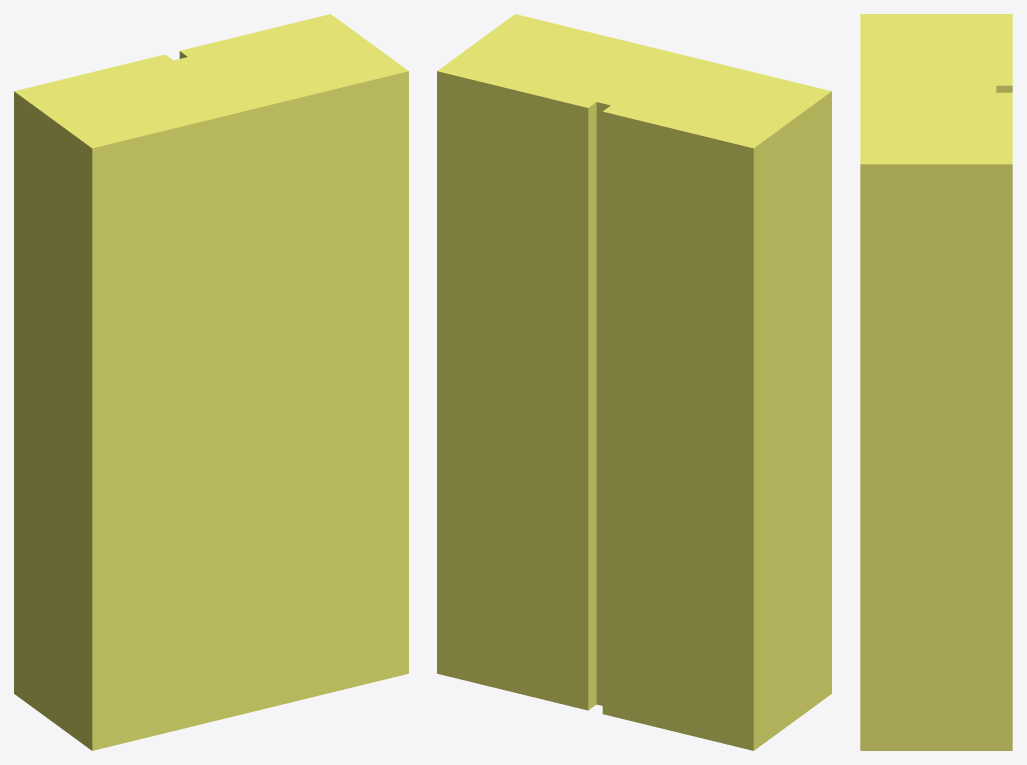
File: elec.armoire.1'.glb
3 renders of one model, left to right at view 1: azimuth 30°, elevation 25°; view 2: azimuth 150°, elevation 25°; view 3: azimuth 270°, elevation 25°, orthographic. The views are drawn at different scales.
Visible parts, largest first — view 1: imagetostl_mesh2, imagetostl_mesh4, imagetostl_mesh0; view 2: imagetostl_mesh6, imagetostl_mesh1, imagetostl_mesh4, imagetostl_mesh0, imagetostl_mesh8, imagetostl_mesh7; view 3: imagetostl_mesh3, imagetostl_mesh0.
Boxes of the visible parts, <box> form: imagetostl_mesh2: <box>92,71,408,750</box>; imagetostl_mesh4: <box>14,91,92,750</box>; imagetostl_mesh0: <box>14,14,408,148</box>; imagetostl_mesh6: <box>437,71,588,710</box>; imagetostl_mesh1: <box>602,111,753,750</box>; imagetostl_mesh4: <box>753,91,831,750</box>; imagetostl_mesh0: <box>437,14,831,148</box>; imagetostl_mesh8: <box>588,102,596,710</box>; imagetostl_mesh7: <box>596,102,610,705</box>; imagetostl_mesh3: <box>860,164,1012,750</box>; imagetostl_mesh0: <box>860,14,1012,164</box>.
Bounding box in the file's own units: 0.8661 × 1.57 × 0.3701.
